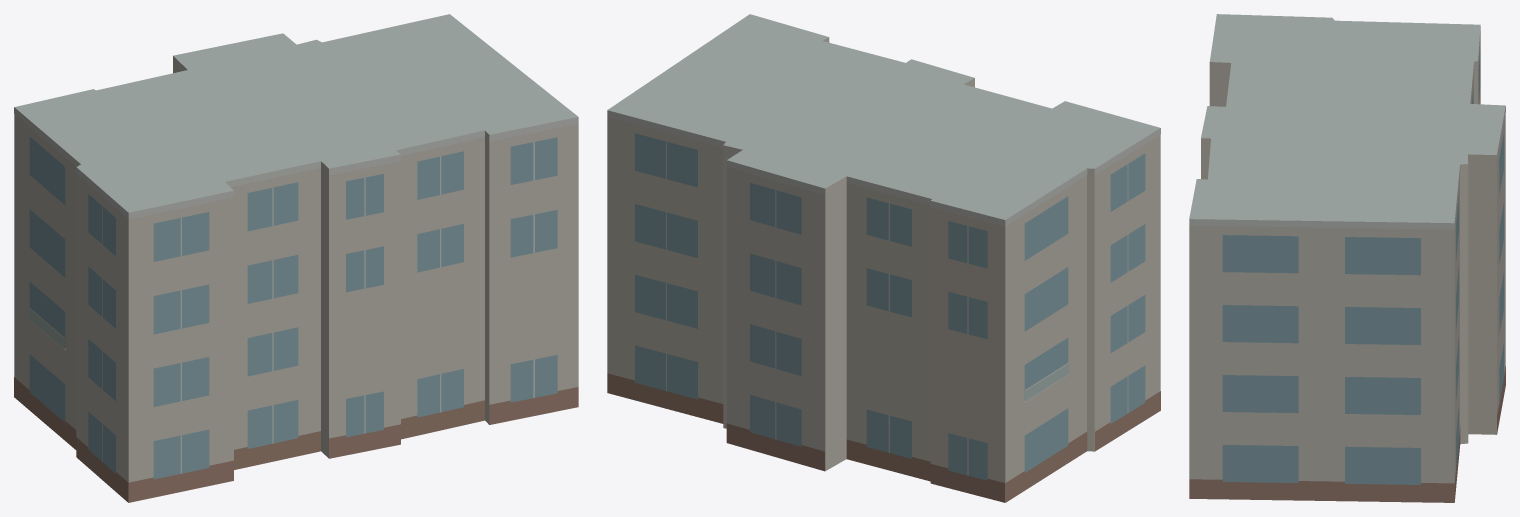
File: survey-upis-32769414.glb
The picture shows the model from 3 angles, left to right: view 1: azimuth 30°, elevation 25°; view 2: azimuth 150°, elevation 25°; view 3: azimuth 270°, elevation 25°; orthographic projection. The views are drawn at different scales.
Visible parts, largest first — view 1: survey-upis-32769414.tmp; view 2: survey-upis-32769414.tmp; view 3: survey-upis-32769414.tmp.
Part boxes in pixels (x1,y1,x2,y2): survey-upis-32769414.tmp: [14, 14, 578, 502]; survey-upis-32769414.tmp: [607, 14, 1160, 502]; survey-upis-32769414.tmp: [1189, 14, 1505, 502].
Size of the model in its own units: 16.85 by 10.5 by 10.78.
